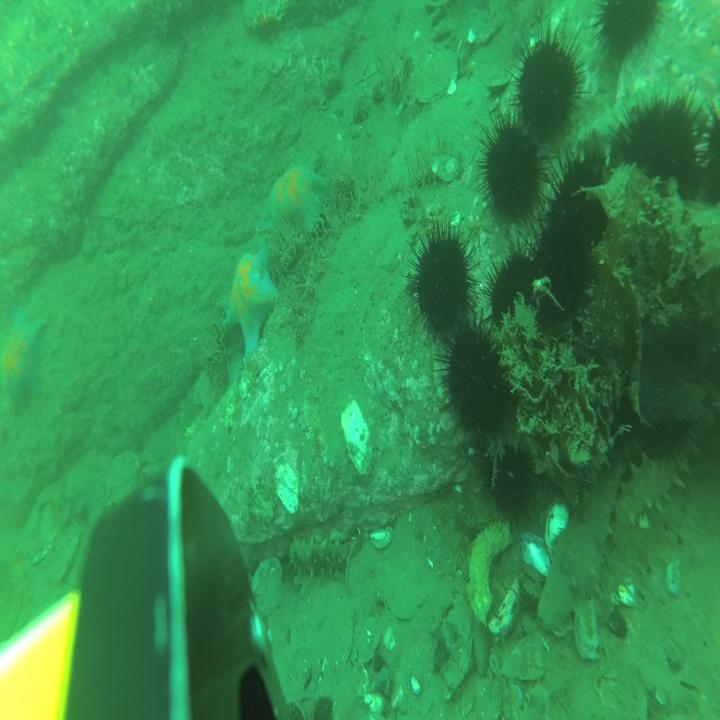echinus: (432, 314, 522, 464), (400, 207, 482, 359), (507, 13, 592, 158), (617, 91, 697, 236), (540, 136, 618, 274), (476, 108, 556, 236), (524, 204, 596, 343), (484, 235, 548, 366), (482, 432, 539, 532), (637, 369, 696, 460), (591, 0, 669, 63), (588, 369, 638, 453), (692, 93, 720, 234)
holothurian: (540, 451, 625, 630), (613, 417, 707, 528), (574, 86, 703, 166), (289, 536, 360, 581)
scallop: (248, 554, 286, 618), (416, 50, 456, 107), (104, 451, 140, 512)
starfish: (256, 163, 335, 244), (223, 251, 278, 357), (0, 302, 47, 417)
